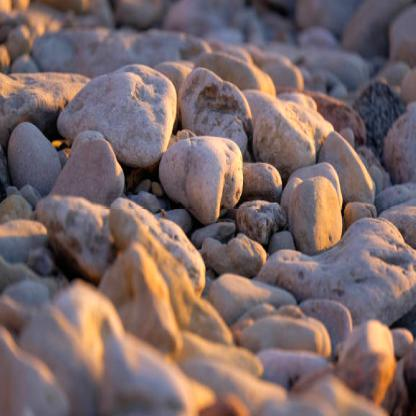Sedimentary_Limestone: (257, 214, 415, 326), (58, 62, 183, 171), (158, 126, 250, 227), (312, 120, 376, 214), (56, 127, 126, 208), (284, 179, 344, 257)
